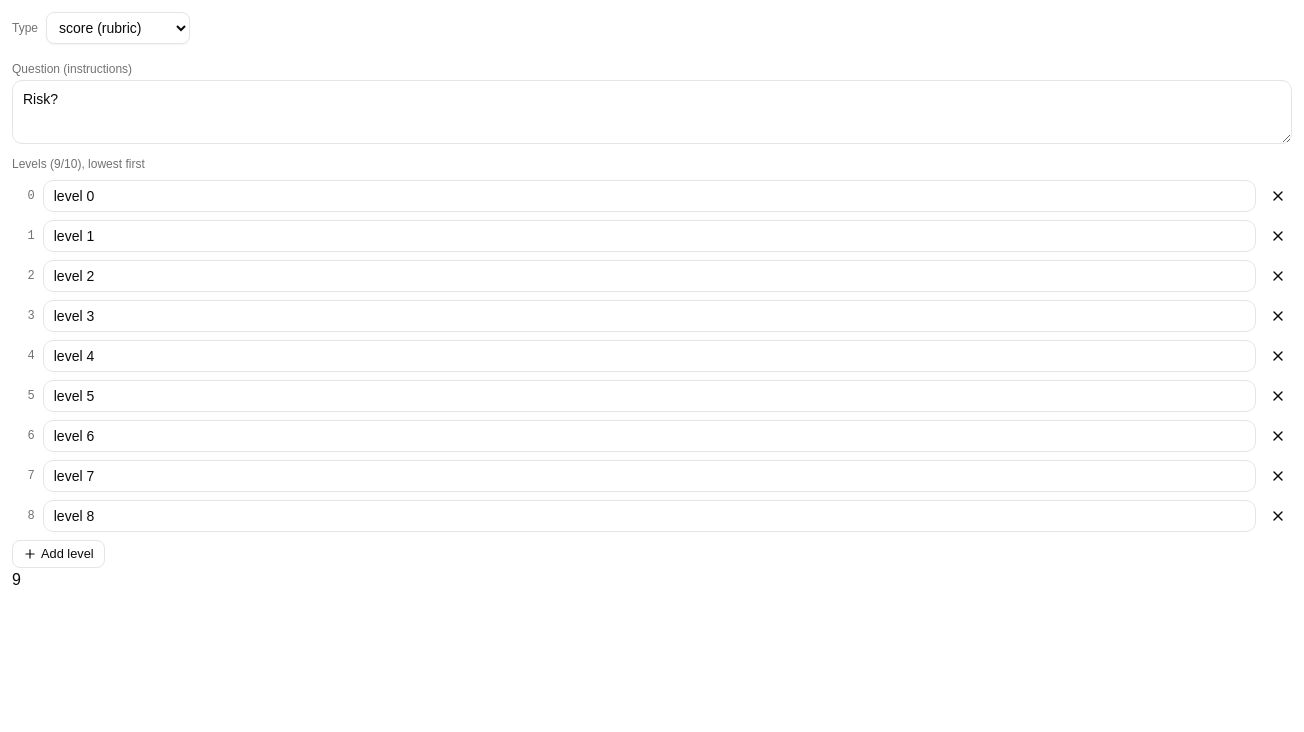
Test: score: 11th level is blocked; below 2 levels cannot be removed
Click the button "Add level": (58, 554) [12,540,105,568]
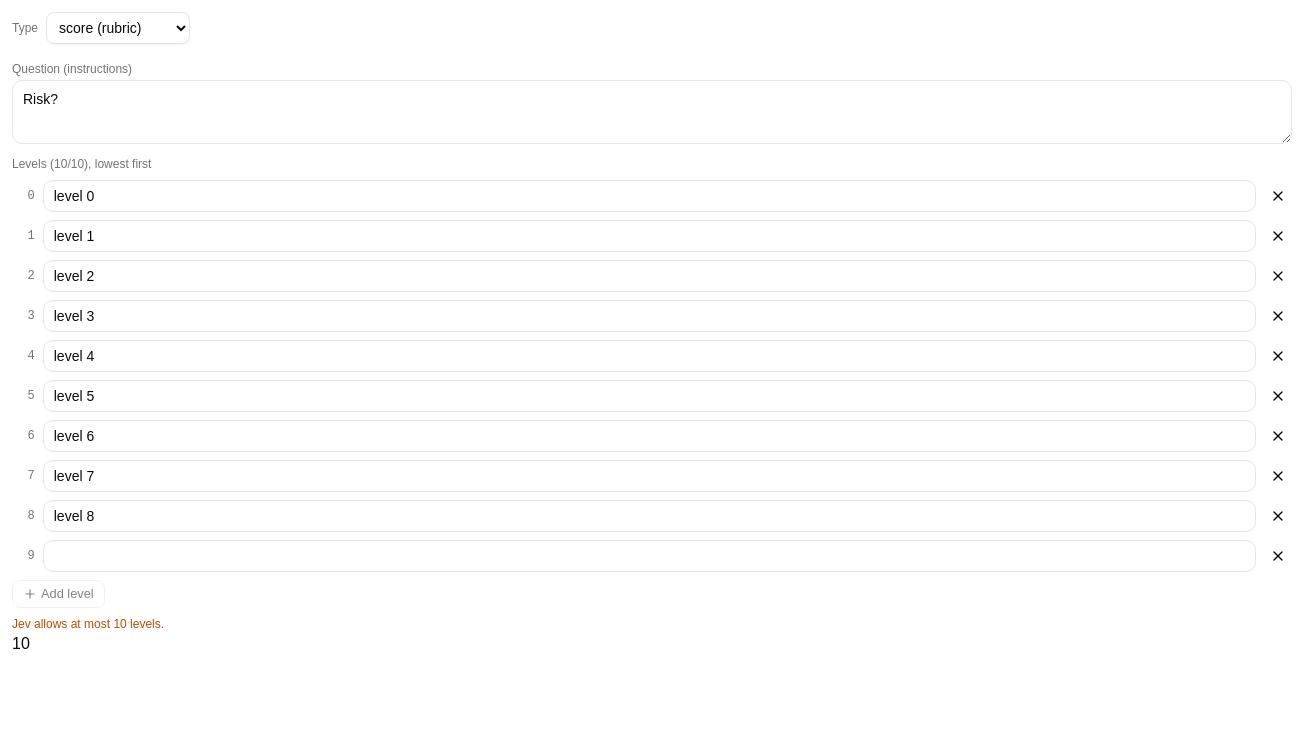
Expected: the text with test id "count" reads "10", [12,635,30,652]
Expected: the button "Add level" is disabled, [12,580,105,608]
Expected: the text "Jev allows at most 10 levels." is shown, [12,617,164,631]
